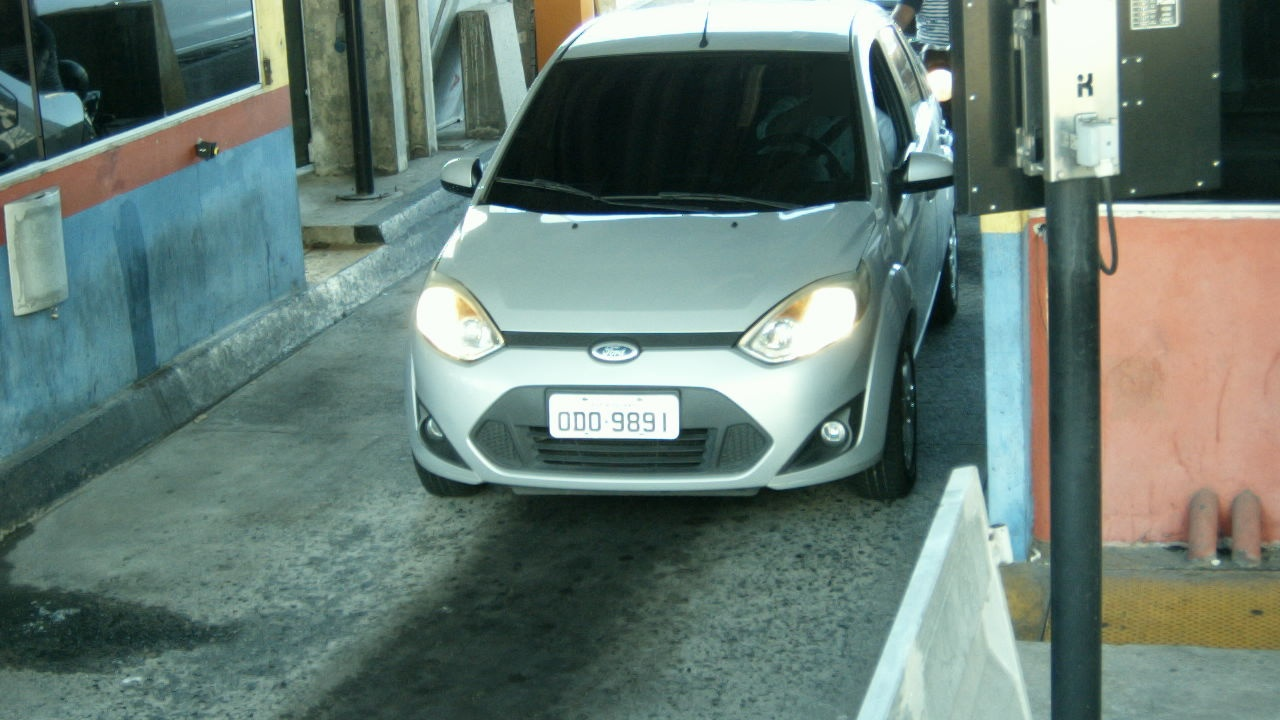placa: (547, 392, 680, 440)
